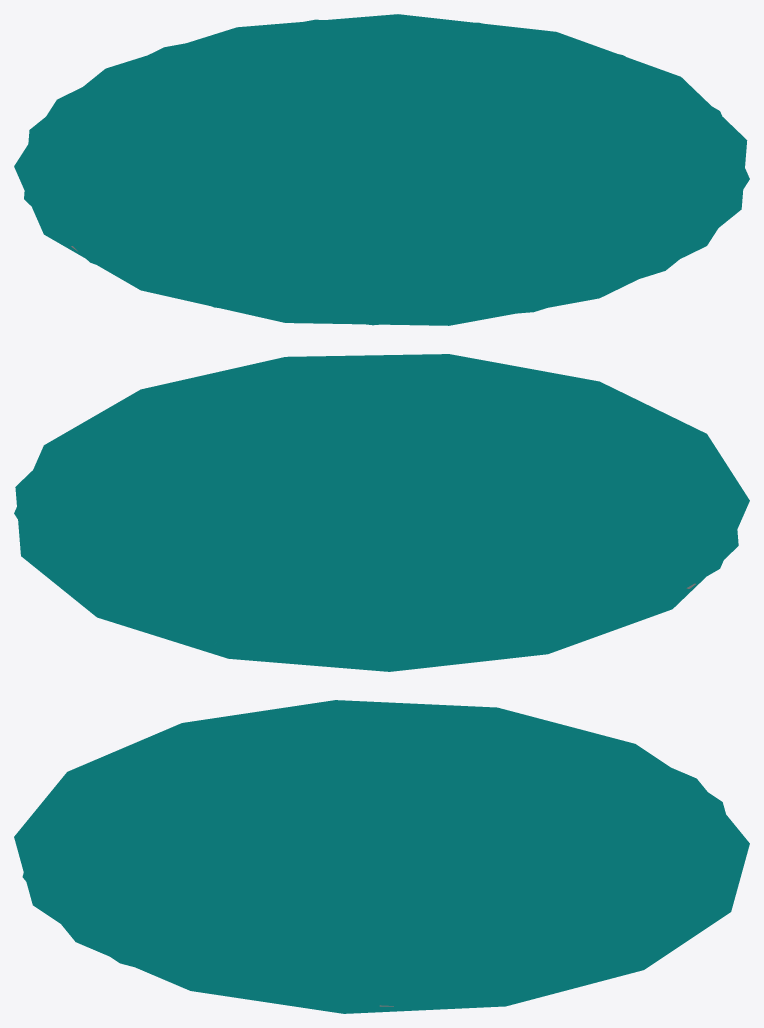
Rendered from BELLROTR.glb.
3 views of the same model, one above another, from view 1: azimuth 30°, elevation 25°; view 2: azimuth 150°, elevation 25°; view 3: azimuth 270°, elevation 25° (orthographic).
Visible parts, largest first — view 1: BELLROTR | archived geometry; view 2: BELLROTR | archived geometry; view 3: BELLROTR | archived geometry.
Boxes of the visible parts, x1=… form: BELLROTR | archived geometry: x1=14, y1=14, x2=749, y2=325; BELLROTR | archived geometry: x1=14, y1=354, x2=749, y2=671; BELLROTR | archived geometry: x1=14, y1=700, x2=749, y2=1013.
Size of the model in its own units: 15.35 by 0.8763 by 15.52.
